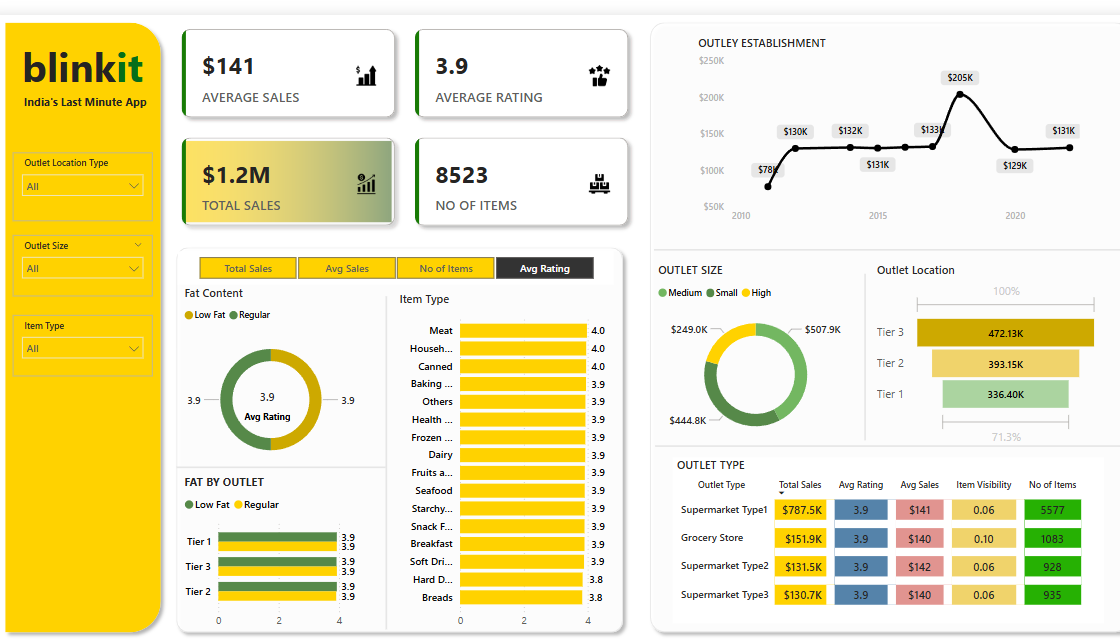

This screenshot's page, from the dashboard's own definition file:
{"tool":"powerbi","page":{"name":"Page 1","canvas":[1400,800],"ordinal":0},"visuals":[{"type":"shape","box":[10,0,205,750],"z":0},{"type":"textbox","box":[34.5,24,168,78],"z":1000},{"type":"textbox","box":[28.8,90,174.1,29.4],"z":2000},{"type":"cardVisual","fields":{"Data":["BlinkIT Grocery Data.Average Sales","BlinkIT Grocery Data.Avg Rating","BlinkIT Grocery Data.Total Sales","BlinkIT Grocery Data.No of Items"]},"box":[215,0,570,270],"z":3000},{"type":"shape","box":[216,270,554,480],"z":4000},{"type":"donutChart","title":"Fat Content","fields":{"Y":["BlinkIT Grocery Data.Avg Rating"],"Category":["BlinkIT Grocery Data.Item Fat Content"]},"box":[229.4,323.9,218.9,230.9],"z":5000},{"type":"slicer","fields":{"Values":["mETRICS.mETRICS"]},"box":[226.2,283.8,523.1,40],"z":6000},{"type":"cardVisual","fields":{"Data":["BlinkIT Grocery Data.Avg Rating"]},"box":[288.6,432.9,92.9,67.1],"z":7000},{"type":"clusteredBarChart","title":"FAT BY OUTLET","fields":{"Y":["BlinkIT Grocery Data.Avg Rating"],"Category":["BlinkIT Grocery Data.Outlet Location Type"],"Series":["BlinkIT Grocery Data.Item Fat Content"]},"box":[229.4,550.3,218.9,194.9],"z":8000},{"type":"shape","box":[225,521.7,251.7,41.7],"z":9000},{"type":"shape","box":[448.3,338.3,56.7,400],"z":10000},{"type":"barChart","title":"Item Type","fields":{"Y":["BlinkIT Grocery Data.Avg Rating"],"Category":["BlinkIT Grocery Data.Item Type"]},"box":[487.4,331.4,260.9,413.9],"z":11000},{"type":"shape","box":[785,0,593.3,750],"z":12000},{"type":"lineChart","title":"OUTLEY ESTABLISHMENT","fields":{"Category":["BlinkIT Grocery Data.Outlet Establishment Year"],"Y":["BlinkIT Grocery Data.Total Sales"]},"box":[846.7,23.3,468.3,235],"z":13000},{"type":"shape","box":[798.3,261.7,563.3,41.7],"z":14000},{"type":"donutChart","title":"OUTLET SIZE","fields":{"Category":["BlinkIT Grocery Data.Outlet Size"],"Y":["BlinkIT Grocery Data.Total Sales"]},"box":[798.3,296.7,245,225],"z":15000},{"type":"shape","box":[1023.3,310,56.7,200],"z":16000},{"type":"funnel","title":"Outlet Location ","fields":{"Y":["Sum(BlinkIT Grocery Data.Sales)"],"Category":["BlinkIT Grocery Data.Outlet Location Type"]},"box":[1061.7,296.9,275.9,224.9],"z":17000},{"type":"shape","box":[799.3,496.4,563.8,42],"z":18000},{"type":"pivotTable","title":"OUTLET TYPE","fields":{"Rows":["BlinkIT Grocery Data.Outlet Type"],"Values":["BlinkIT Grocery Data.Total Sales","BlinkIT Grocery Data.Avg Rating","BlinkIT Grocery Data.Avg Sales","Avg(BlinkIT Grocery Data.Item Visibility)","BlinkIT Grocery Data.No of Items"]},"box":[820.3,530.9,517.4,199.4],"z":19000},{"type":"slicer","fields":{"Values":["BlinkIT Grocery Data.Outlet Location Type"]},"box":[28.5,165,168,82.5],"z":20000},{"type":"slicer","fields":{"Values":["BlinkIT Grocery Data.Outlet Size"]},"box":[28.5,263.9,168,73.5],"z":21000},{"type":"slicer","fields":{"Values":["BlinkIT Grocery Data.Item Type"]},"box":[28.5,359.9,168,73.5],"z":22000}]}

Visuals, with their boxes in screenshot pixels (x1, y1, x2, y2), scaled from the page's 1400x800 canvas onto the 1120x641 screenshot:
shape: box(8, 0, 172, 601)
textbox: box(28, 19, 162, 82)
textbox: box(23, 72, 162, 96)
cardVisual - BlinkIT Grocery Data.Average Sales x BlinkIT Grocery Data.Avg Rating: box(172, 0, 628, 216)
shape: box(173, 216, 616, 601)
"Fat Content" donutChart: box(184, 260, 359, 445)
slicer - mETRICS.mETRICS: box(181, 227, 599, 259)
cardVisual - BlinkIT Grocery Data.Avg Rating: box(231, 347, 305, 401)
"FAT BY OUTLET" clusteredBarChart: box(184, 441, 359, 597)
shape: box(180, 418, 381, 451)
shape: box(359, 271, 404, 592)
"Item Type" barChart: box(390, 266, 599, 597)
shape: box(628, 0, 1103, 601)
"OUTLEY ESTABLISHMENT" lineChart: box(677, 19, 1052, 207)
shape: box(639, 210, 1089, 243)
"OUTLET SIZE" donutChart: box(639, 238, 835, 418)
shape: box(819, 248, 864, 409)
"Outlet Location " funnel: box(849, 238, 1070, 418)
shape: box(639, 398, 1090, 431)
"OUTLET TYPE" pivotTable: box(656, 425, 1070, 585)
slicer - BlinkIT Grocery Data.Outlet Location Type: box(23, 132, 157, 198)
slicer - BlinkIT Grocery Data.Outlet Size: box(23, 211, 157, 270)
slicer - BlinkIT Grocery Data.Item Type: box(23, 288, 157, 347)
